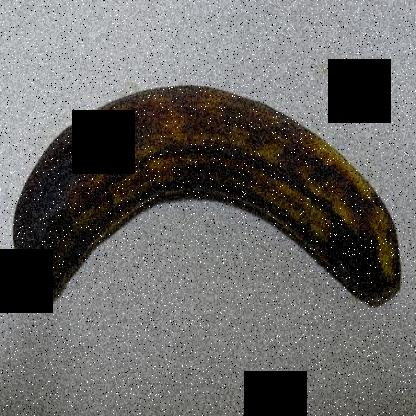overripe: (10, 72, 412, 330)
